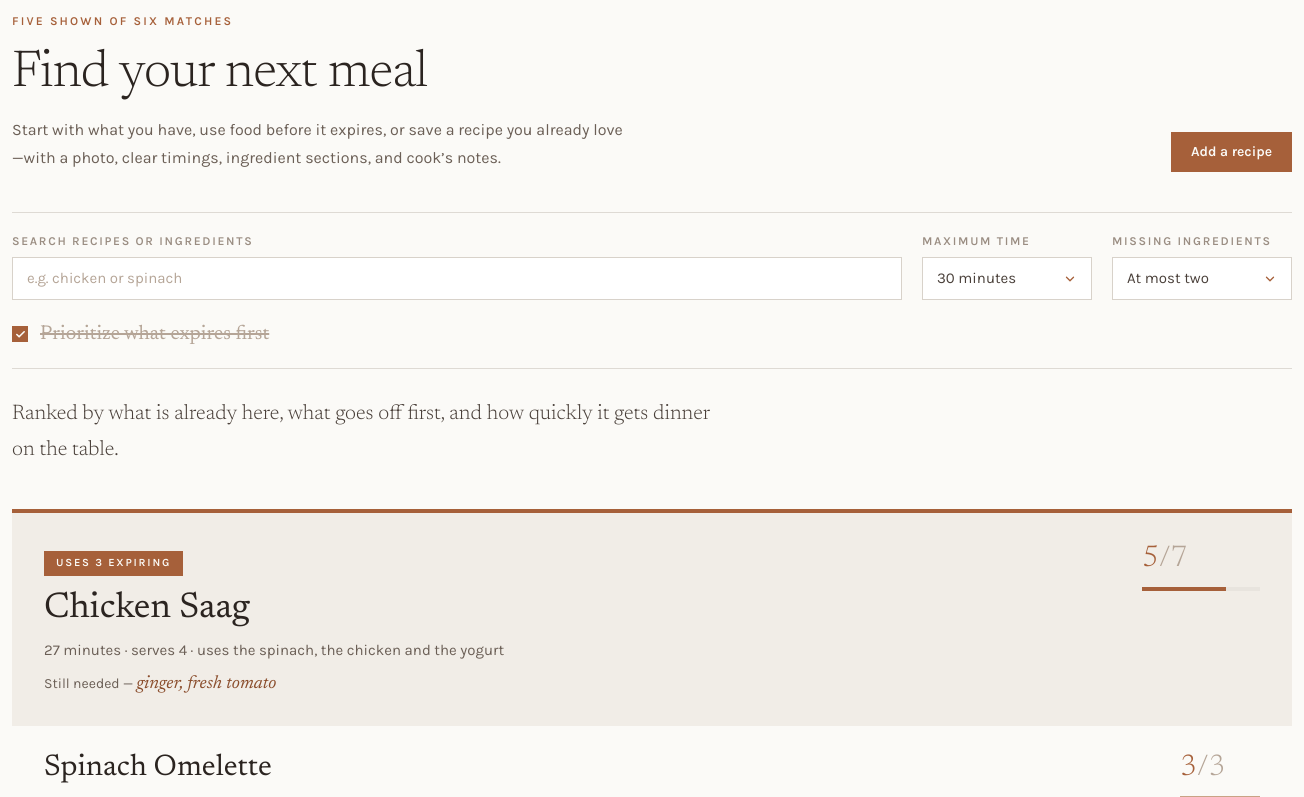
RecipesPage › shows Chicken Saag first and applies human-facing filters
Expected: the heading "Chicken Saag" is shown, [44, 591, 250, 627]
Expected: the text "Five shown of six matches" is shown, [12, 14, 233, 28]
Type "dal" into the search field labelled "Search recipes or ingredients".
click(457, 279); type("dal")  # box [12, 257, 902, 300]
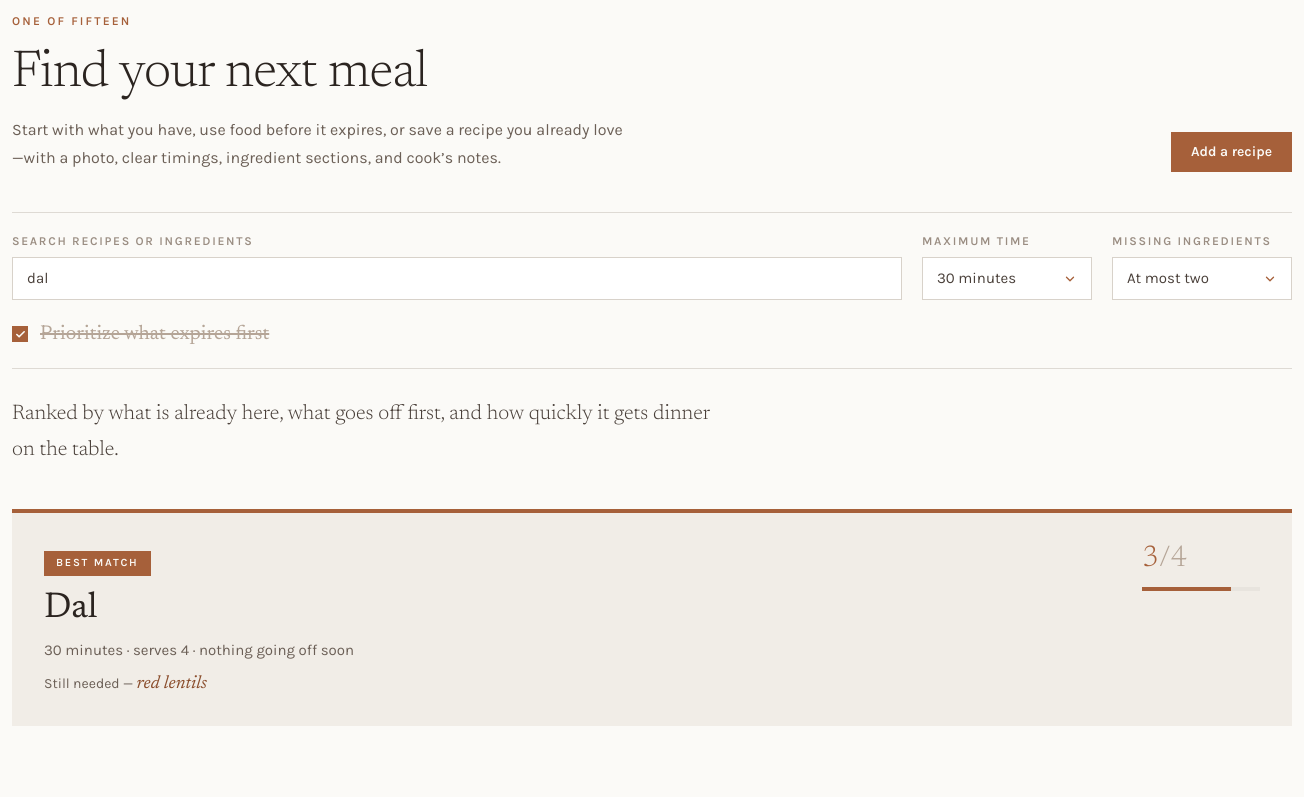
Result: the heading "Dal" is shown at [44, 591, 98, 627]
Result: the link "Chicken Saag" is gone
